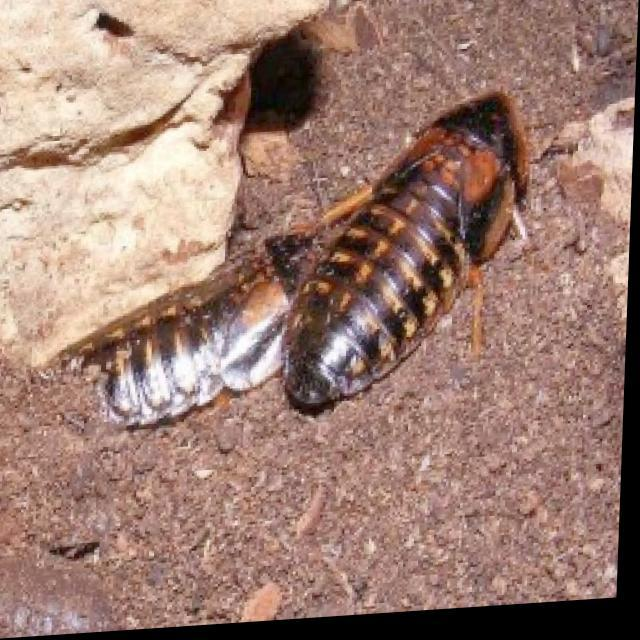cockroach: (256, 84, 537, 437), (20, 208, 335, 468)
